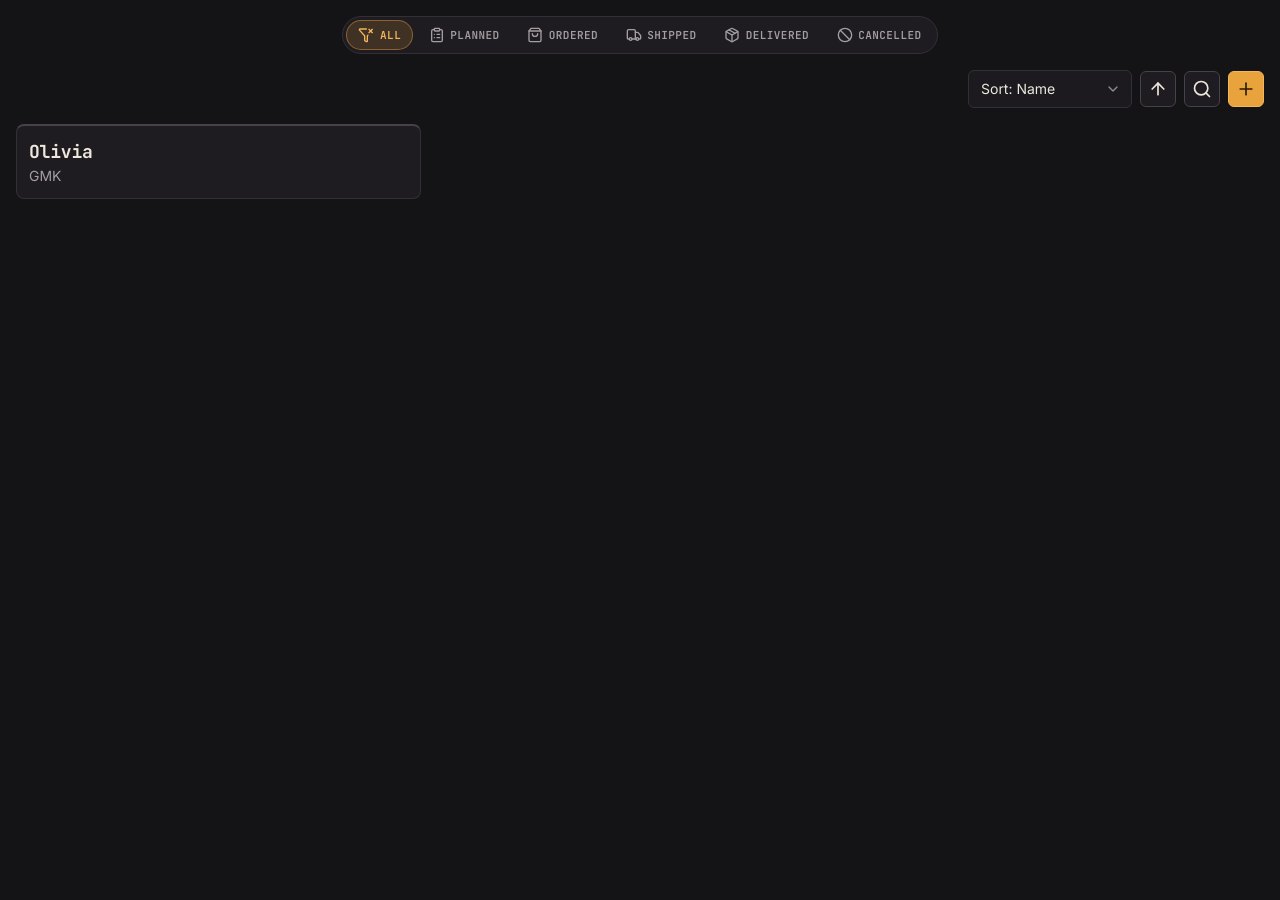
it: keycap sets page › editing a set › saves and returns to the updated set
Click the button "Olivia GMK".
click(61, 152)  # box top-left (16, 124), bottom-right (421, 199)
(page scrolled)
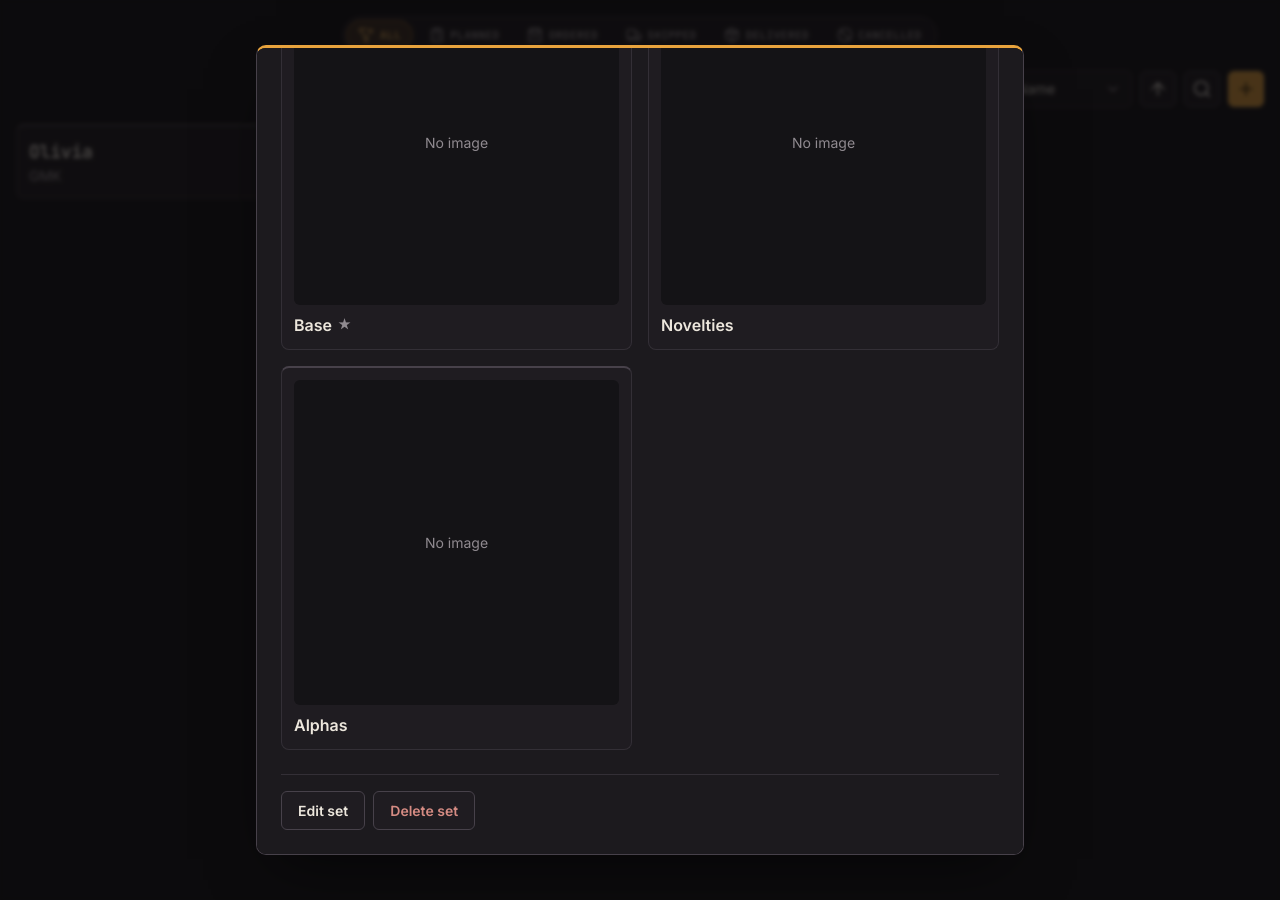
Click the button "Edit set".
click(323, 810)  # box top-left (281, 791), bottom-right (365, 830)
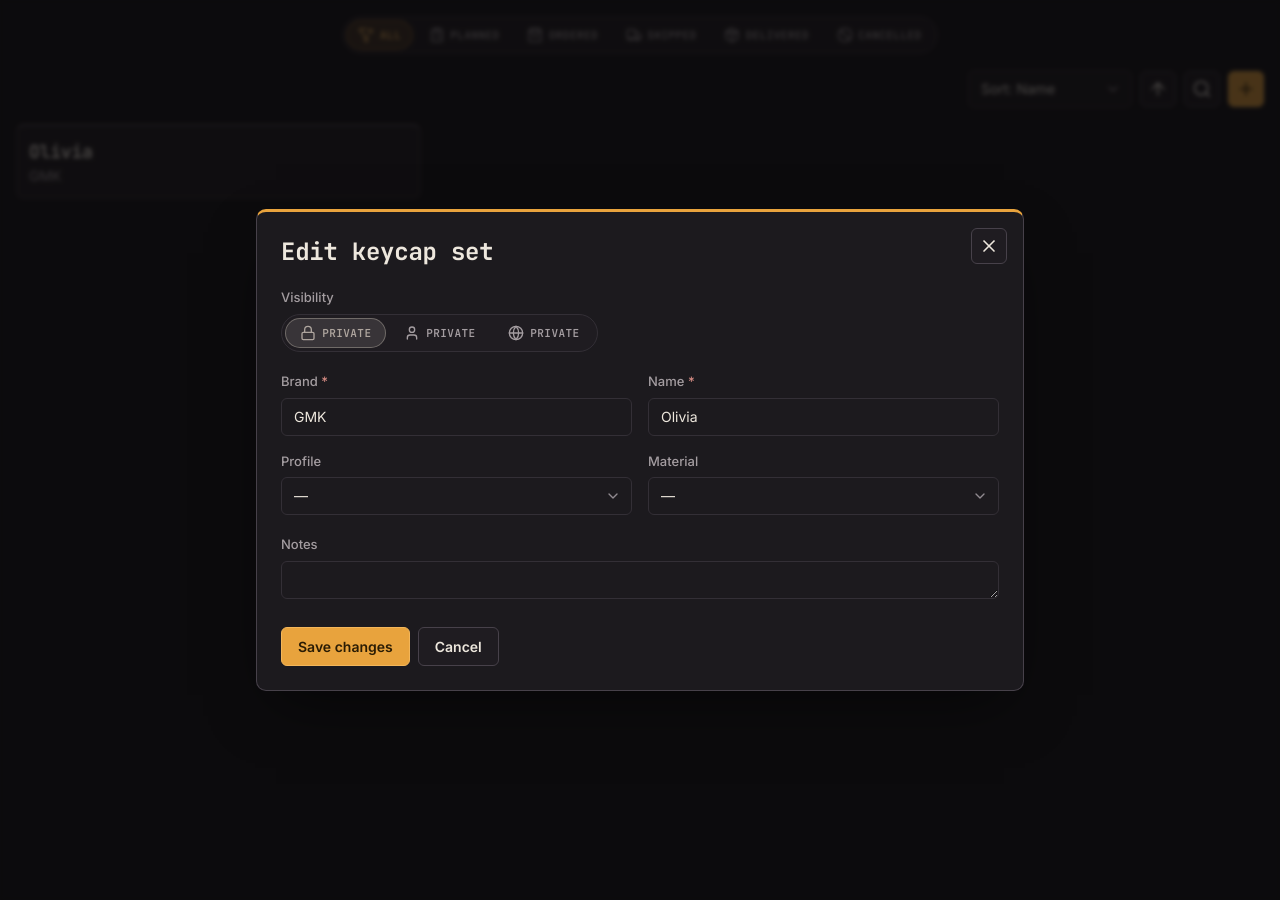
Replace the text in the field labelled "Name *" with "Olivia++" at (824, 416), box top-left (648, 398), bottom-right (999, 436)
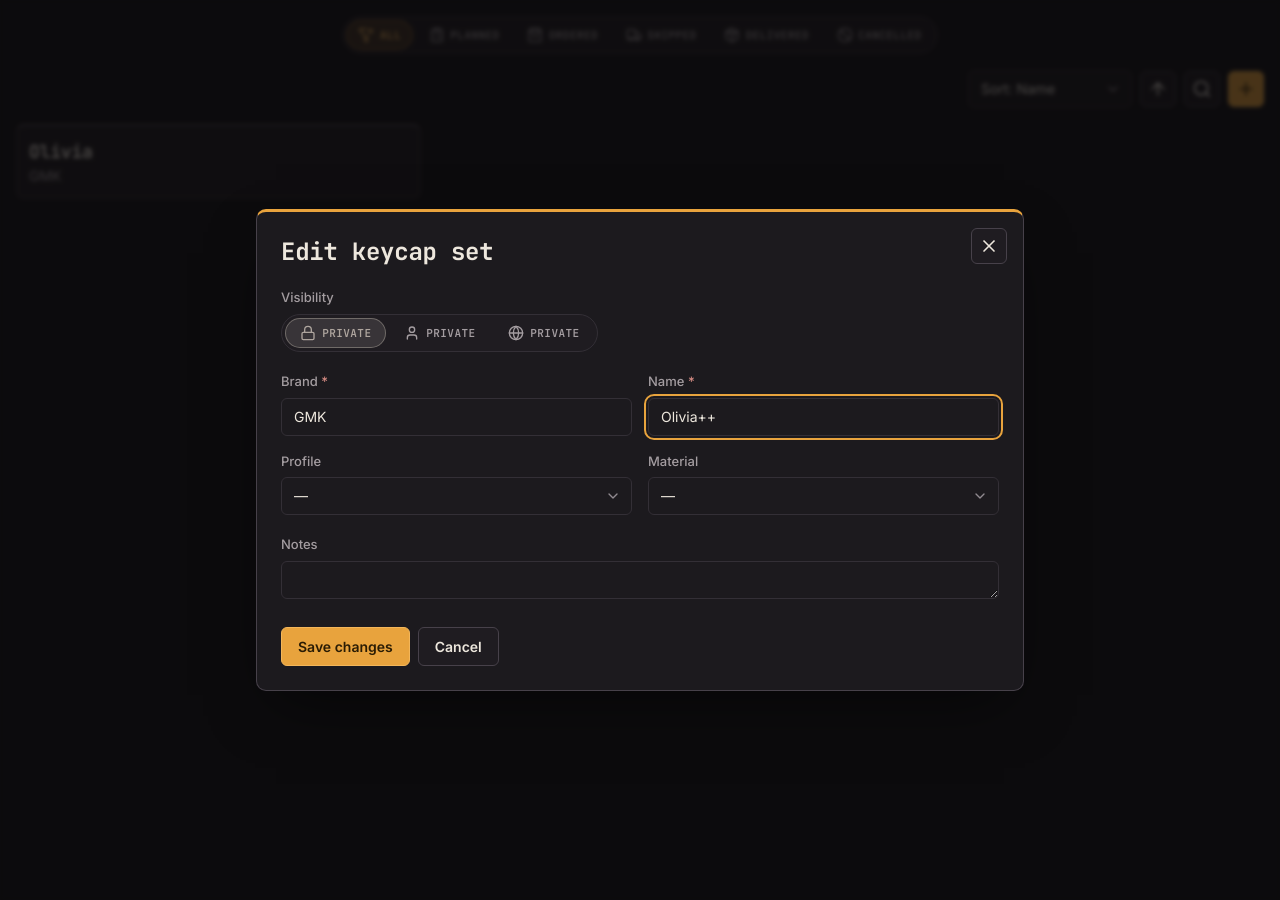
Click the button "Save changes".
click(345, 646)  # box top-left (281, 626), bottom-right (410, 666)
(page scrolled)
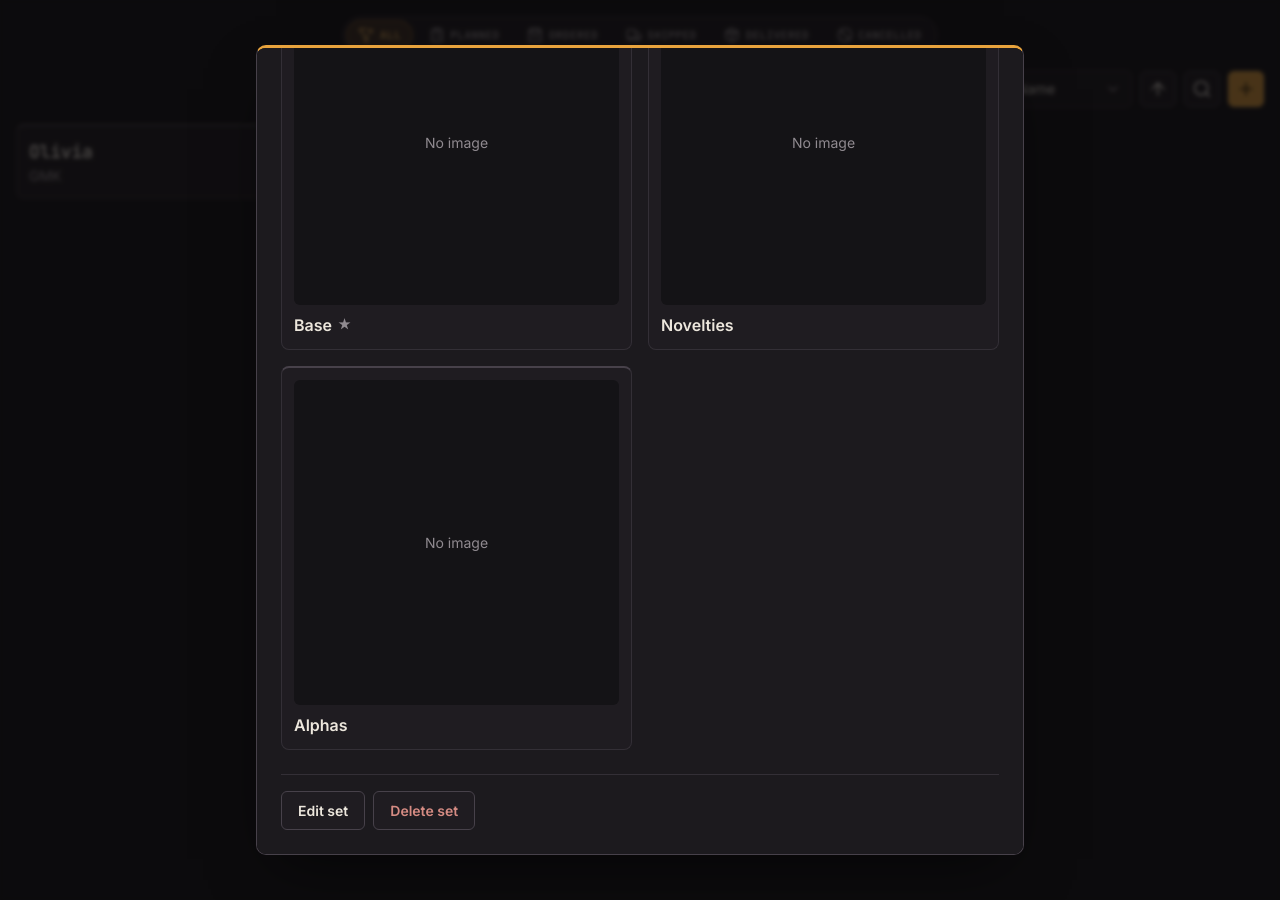
Result: the button "Edit set" is shown at top-left (281, 791), bottom-right (365, 830)
